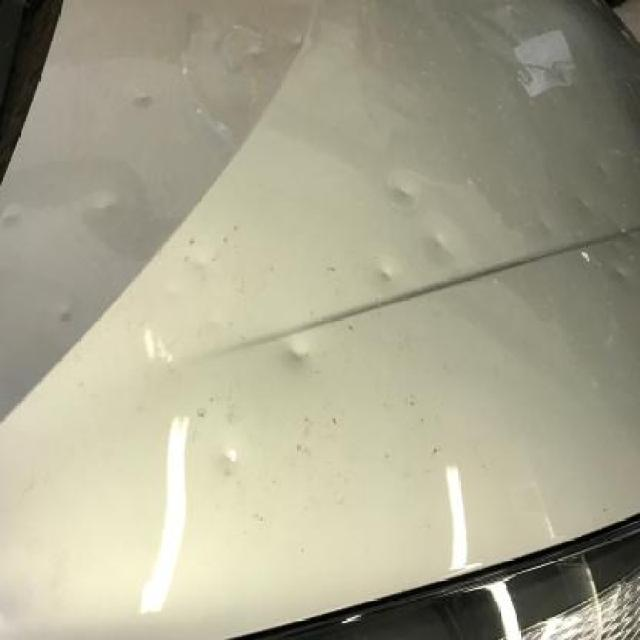dent: (283, 341, 309, 370), (92, 195, 120, 216), (219, 445, 239, 472), (390, 180, 411, 204), (426, 229, 445, 255), (132, 92, 151, 112), (609, 262, 626, 284), (57, 307, 77, 325), (377, 265, 394, 285), (578, 195, 592, 217), (620, 227, 635, 246), (595, 162, 608, 180)
